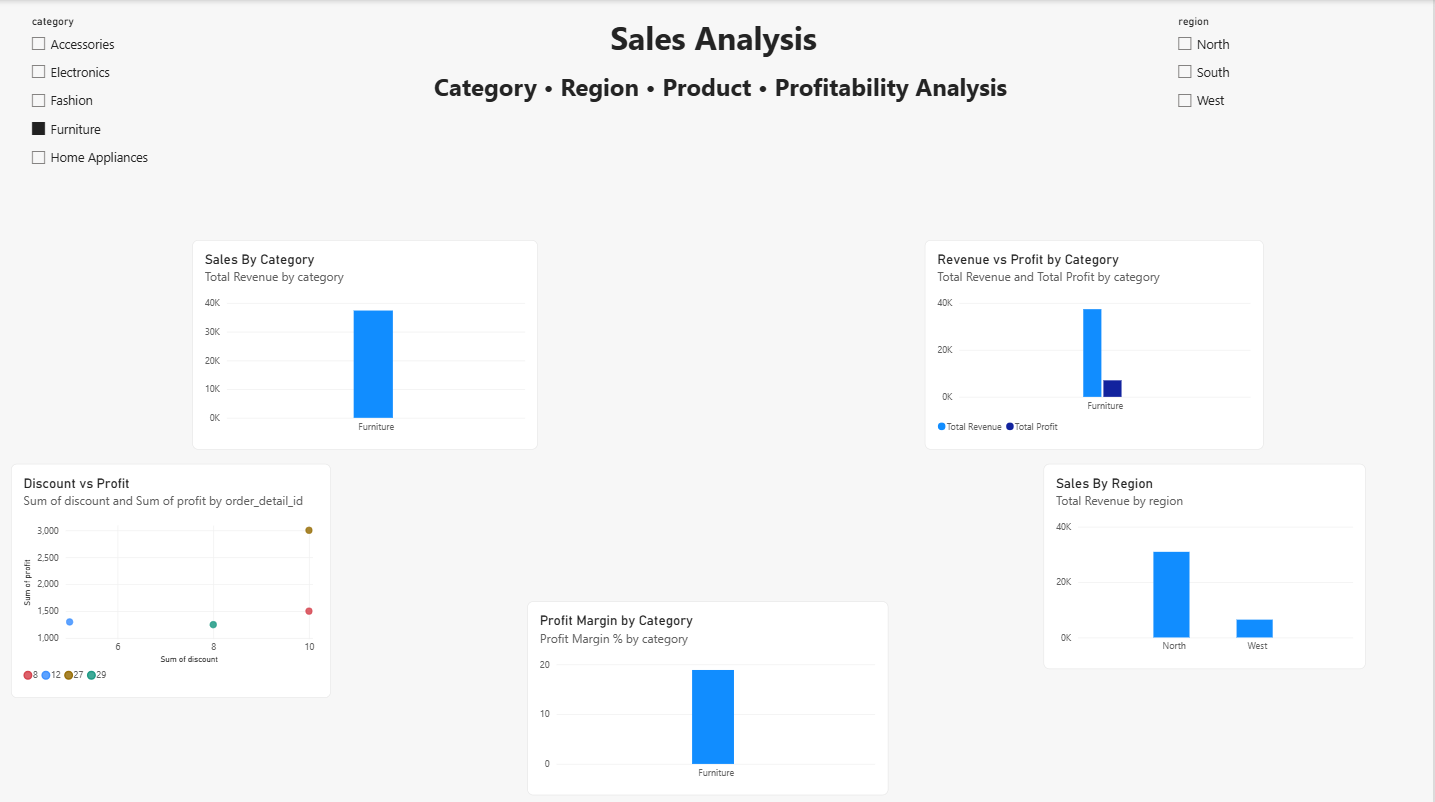

Layout of this report page (visuals, bound fields, positions):
{"tool":"powerbi","page":{"name":"Sales Analysis","canvas":[1920,1080],"ordinal":1},"visuals":[{"type":"clusteredColumnChart","title":"Sales By Category","fields":{"Category":["ecommerce_analytics products.category"],"Y":["ecommerce_analytics order_details.Total Revenue"]},"box":[261.4,320.2,462,279.8],"z":0},{"type":"clusteredColumnChart","title":"Revenue vs Profit by Category","fields":{"Category":["ecommerce_analytics products.category"],"Y":["ecommerce_analytics order_details.Total Revenue","ecommerce_analytics order_details.Total Profit"]},"box":[1240.5,320.2,452.8,279.8],"z":1},{"type":"scatterChart","title":"Discount vs Profit","fields":{"Series":["ecommerce_analytics order_details.order_detail_id"],"X":["Sum(ecommerce_analytics order_details.discount)"],"Y":["Sum(ecommerce_analytics order_details.profit)"]},"box":[20.2,620.2,427,312.9],"z":2},{"type":"clusteredColumnChart","title":"Sales By Region","fields":{"Category":["ecommerce_analytics orders.region"],"Y":["ecommerce_analytics order_details.Total Revenue"]},"box":[1398.8,620.2,430.7,274.2],"z":3},{"type":"clusteredColumnChart","title":"Profit Margin by Category","fields":{"Category":["ecommerce_analytics products.category"],"Y":["ecommerce_analytics customers.Profit Margin %"]},"box":[710.4,802.5,482.2,259.5],"z":4},{"type":"textbox","box":[20.2,20.2,1869.9,73.6],"z":5},{"type":"textbox","box":[20.2,93.9,1869.9,75.5],"z":6},{"type":"slicer","fields":{"Values":["ecommerce_analytics products.category"]},"box":[40.5,20.2,280,280],"z":7},{"type":"slicer","fields":{"Values":["ecommerce_analytics orders.region"]},"box":[1571.8,20.2,280,280],"z":8}]}

Visuals, with their boxes in screenshot pixels (x1, y1, x2, y2), scaled from the page's 1920x1080 canvas onto the 1435x802 screenshot:
"Sales By Category" clusteredColumnChart: (x1=195, y1=238, x2=541, y2=446)
"Revenue vs Profit by Category" clusteredColumnChart: (x1=927, y1=238, x2=1266, y2=446)
"Discount vs Profit" scatterChart: (x1=15, y1=461, x2=334, y2=693)
"Sales By Region" clusteredColumnChart: (x1=1045, y1=461, x2=1367, y2=664)
"Profit Margin by Category" clusteredColumnChart: (x1=531, y1=596, x2=891, y2=789)
textbox: (x1=15, y1=15, x2=1413, y2=70)
textbox: (x1=15, y1=70, x2=1413, y2=126)
slicer - ecommerce_analytics products.category: (x1=30, y1=15, x2=240, y2=223)
slicer - ecommerce_analytics orders.region: (x1=1175, y1=15, x2=1384, y2=223)
